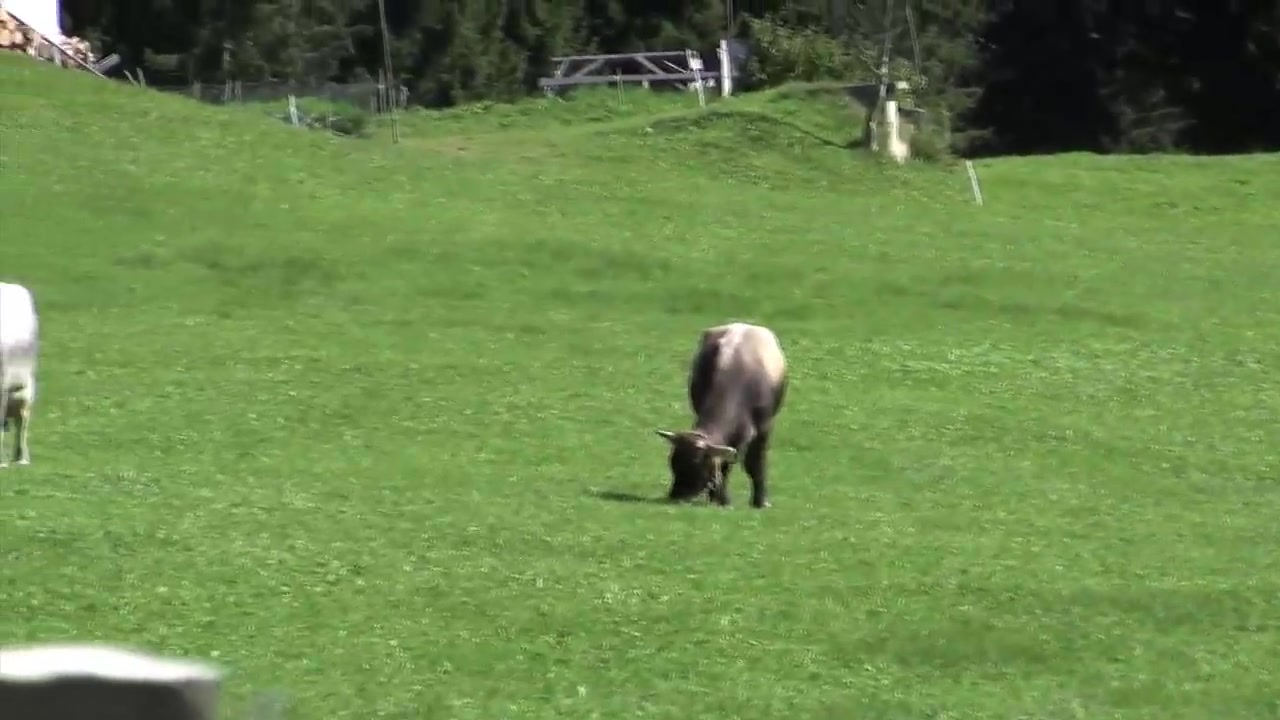cow: (668, 320, 797, 513)
